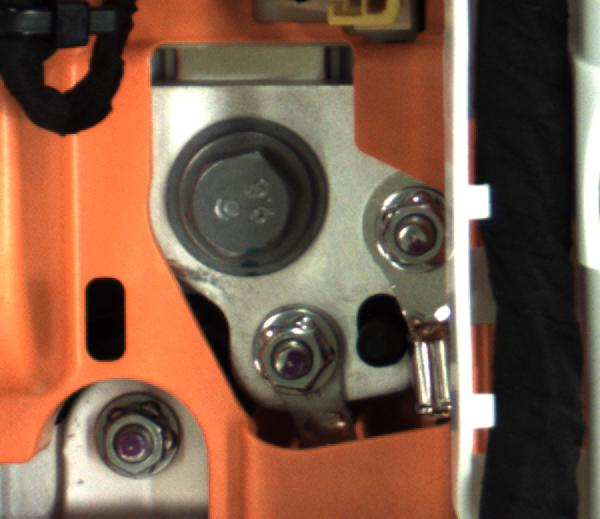nut_b: (168, 132, 314, 272)
screw_s: (82, 403, 181, 476), (253, 313, 326, 400), (367, 192, 447, 270)
